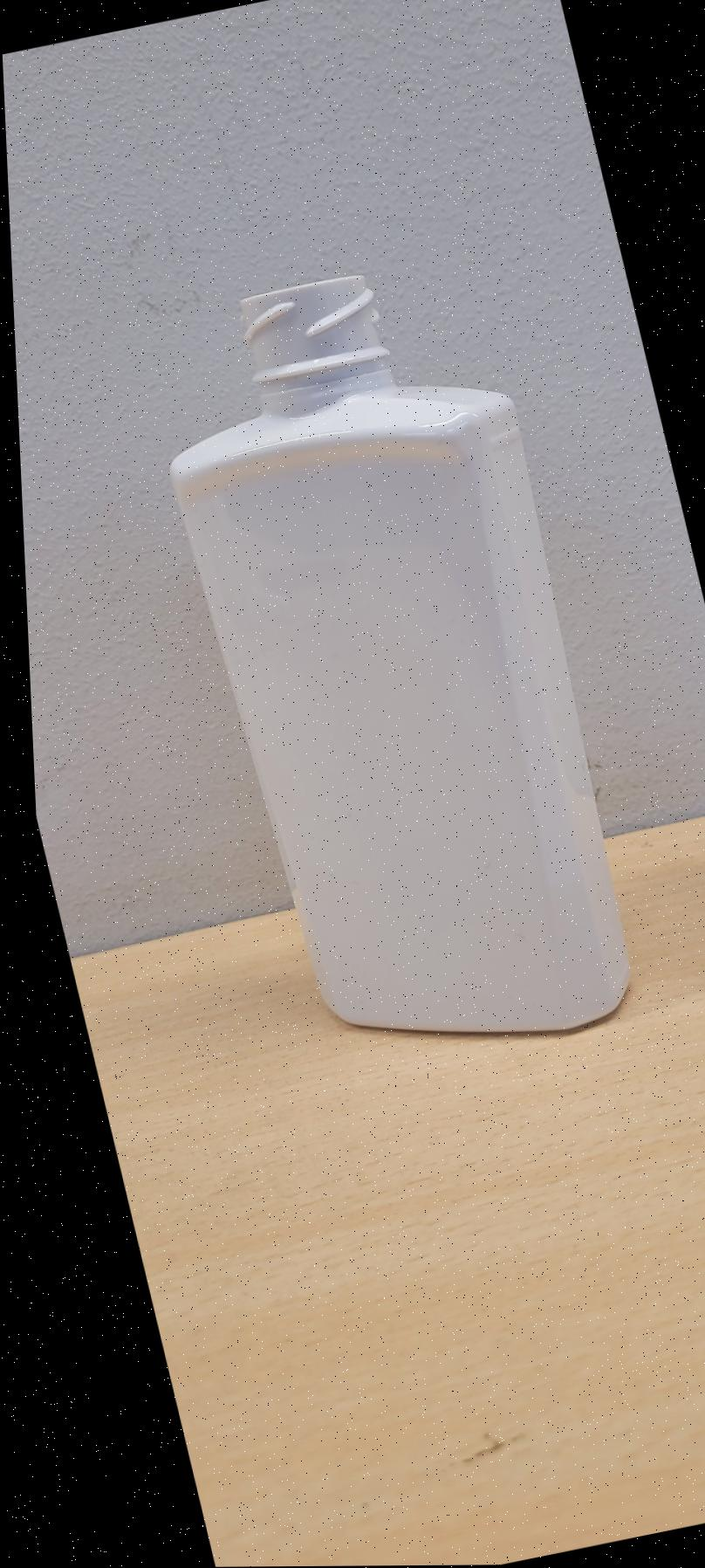bottle: (171, 274, 629, 1032)
